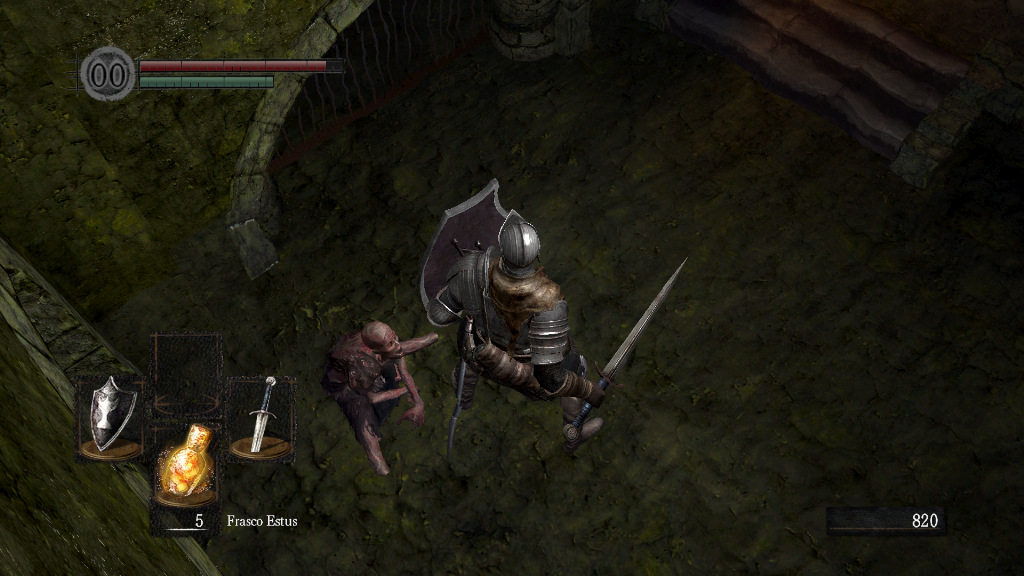health: (138, 58, 343, 71)
hollow: (320, 321, 443, 477)
humanity: (80, 45, 136, 102)
player: (414, 178, 691, 464)
souls: (825, 506, 945, 536)
stamina: (138, 74, 274, 88)
